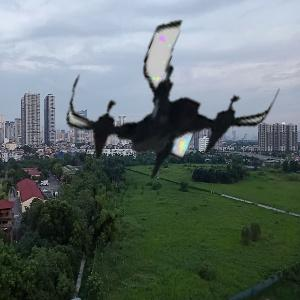drone: (71, 13, 265, 207)
